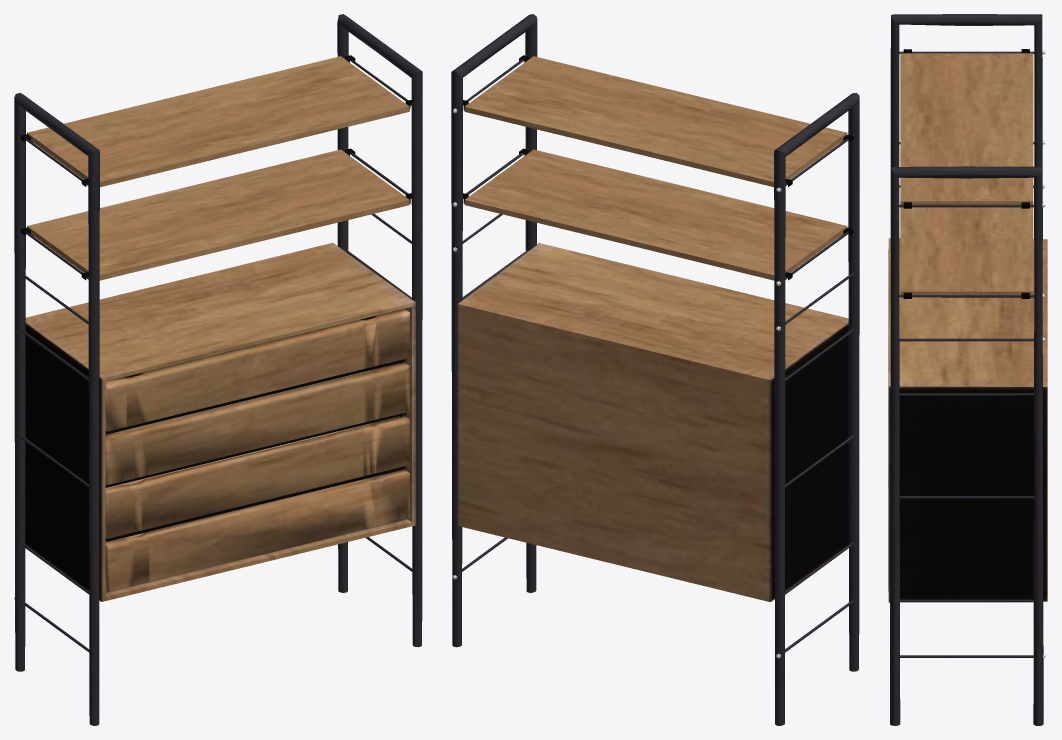
File: drawer_cabinet.glb
3 views of the same model, side by side, from view 1: azimuth 30°, elevation 25°; view 2: azimuth 150°, elevation 25°; view 3: azimuth 270°, elevation 25° (orthographic). The views are drawn at different scales.
Parts seen in each view (by area): view 1: drawer_cabinet, drawer_cabinet_drawer_03, drawer_cabinet_drawer_02, drawer_cabinet_drawer_04, drawer_cabinet_drawer_01; view 2: drawer_cabinet; view 3: drawer_cabinet.
Boxes of the visible parts, x1=… form: drawer_cabinet: x1=14, y1=14, x2=422, y2=725; drawer_cabinet_drawer_03: x1=105, y1=416, x2=409, y2=538; drawer_cabinet_drawer_02: x1=105, y1=362, x2=409, y2=484; drawer_cabinet_drawer_04: x1=105, y1=469, x2=409, y2=592; drawer_cabinet_drawer_01: x1=105, y1=309, x2=409, y2=431; drawer_cabinet: x1=451, y1=14, x2=859, y2=725; drawer_cabinet: x1=888, y1=14, x2=1047, y2=725.
Bounding box in the file's own units: 1.14 × 1.88 × 0.4881.
1 material, 1 textured.
